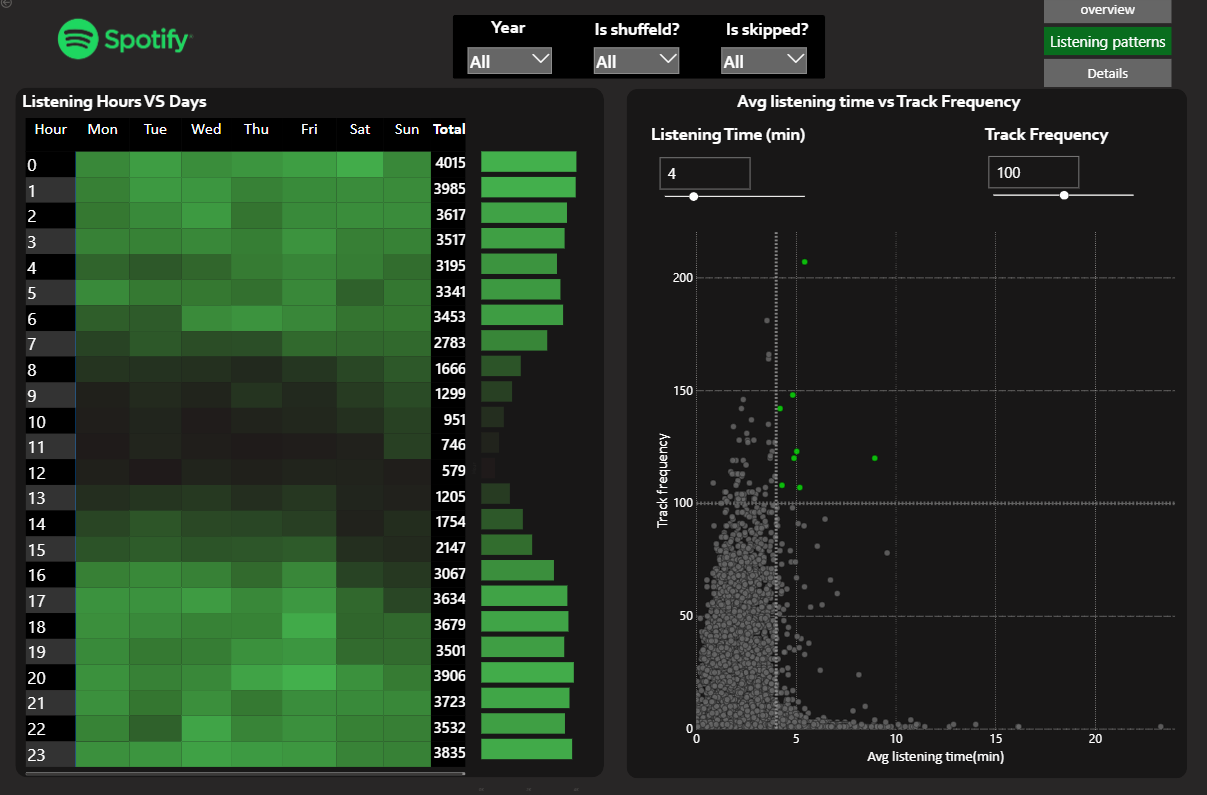

The page's visual inventory and layout, read from the dashboard file:
{"tool":"powerbi","page":{"name":"Listening patterns","canvas":[3300,2200],"ordinal":1},"visuals":[{"type":"image","box":[0,0,687.4,251.2],"z":0},{"type":"shape","box":[1238.5,54.6,1016.8,174],"z":1000},{"type":"textbox","box":[1620.7,58,266.1,75.1],"z":2000},{"type":"slicer","fields":{"Values":["spotify_history.shuffle"]},"box":[1613.1,133.8,252.5,85.3],"z":3000},{"type":"slicer","fields":{"Values":["spotify_history.skipped"]},"box":[1961.9,133.8,252.5,85.3],"z":4000},{"type":"textbox","box":[1978.9,58,266.1,75.1],"z":5000},{"type":"shape","box":[44.4,252.5,1607,1883.4],"z":6000},{"type":"pivotTable","fields":{"Rows":["spotify_history.Hour"],"Columns":["Date Table.Day Name"],"Values":["spotify_history.Total Tracks"]},"box":[61.5,331.4,1219.8,1804.1],"z":7000},{"type":"clusteredBarChart","fields":{"Category":["spotify_history.Hour"],"Y":["spotify_history.Total Tracks"]},"box":[1281.3,413,369,1787],"z":8000},{"type":"textbox","box":[58.1,256.3,584.3,75.2],"z":9000},{"type":"shape","box":[1711.9,256.3,1530.8,1882.7],"z":10000},{"type":"scatterChart","fields":{"Category":["spotify_history.track_name"],"X":["spotify_history.avg listening time(min)"],"Y":["spotify_history.Total frequency"]},"box":[1780.2,635.5,1452.2,1472.7],"z":11000},{"type":"slicer","fields":{"Values":["Listening Time (min).Listening Time (min)"]},"box":[1791.3,433.3,429.9,156.9],"z":12000},{"type":"textbox","box":[1774.2,346.3,535.7,75.1],"z":13000},{"type":"textbox","box":[2593.1,346.3,532.3,75.1],"z":14000},{"type":"slicer","fields":{"Values":["Total Frequency.Total Frequency"]},"box":[2688.6,429.9,429.9,150.1],"z":15000},{"type":"textbox","box":[2009.6,255.9,839.3,75.1],"z":16000},{"type":"slicer","fields":{"Values":["Date Table.Year"]},"box":[1267.7,133.8,249.1,85.3],"z":17000},{"type":"textbox","box":[1337.5,54.6,266.1,75.1],"z":18000},{"type":"actionButton","box":[0,0,100,40],"z":19000},{"type":"pageNavigator","box":[2852.4,0,348,252.5],"z":20000}]}

Visuals, with their boxes in screenshot pixels (x1, y1, x2, y2), scaled from the page's 3300x2200 canvas onto the 1207x795 screenshot:
image: bbox(0, 0, 251, 91)
shape: bbox(453, 20, 825, 83)
textbox: bbox(593, 21, 690, 48)
slicer - spotify_history.shuffle: bbox(590, 48, 682, 79)
slicer - spotify_history.skipped: bbox(718, 48, 810, 79)
textbox: bbox(724, 21, 821, 48)
shape: bbox(16, 91, 604, 772)
pivotTable - spotify_history.Hour x Date Table.Day Name: bbox(22, 120, 469, 772)
clusteredBarChart - spotify_history.Hour x spotify_history.Total Tracks: bbox(469, 149, 604, 794)
textbox: bbox(21, 93, 235, 120)
shape: bbox(626, 93, 1186, 773)
scatterChart - spotify_history.track_name x spotify_history.avg listening time(min): bbox(651, 230, 1182, 762)
slicer - Listening Time (min).Listening Time (min): bbox(655, 157, 812, 213)
textbox: bbox(649, 125, 845, 152)
textbox: bbox(948, 125, 1143, 152)
slicer - Total Frequency.Total Frequency: bbox(983, 155, 1141, 210)
textbox: bbox(735, 92, 1042, 120)
slicer - Date Table.Year: bbox(464, 48, 555, 79)
textbox: bbox(489, 20, 587, 47)
actionButton: bbox(0, 0, 37, 14)
pageNavigator: bbox(1043, 0, 1171, 91)
